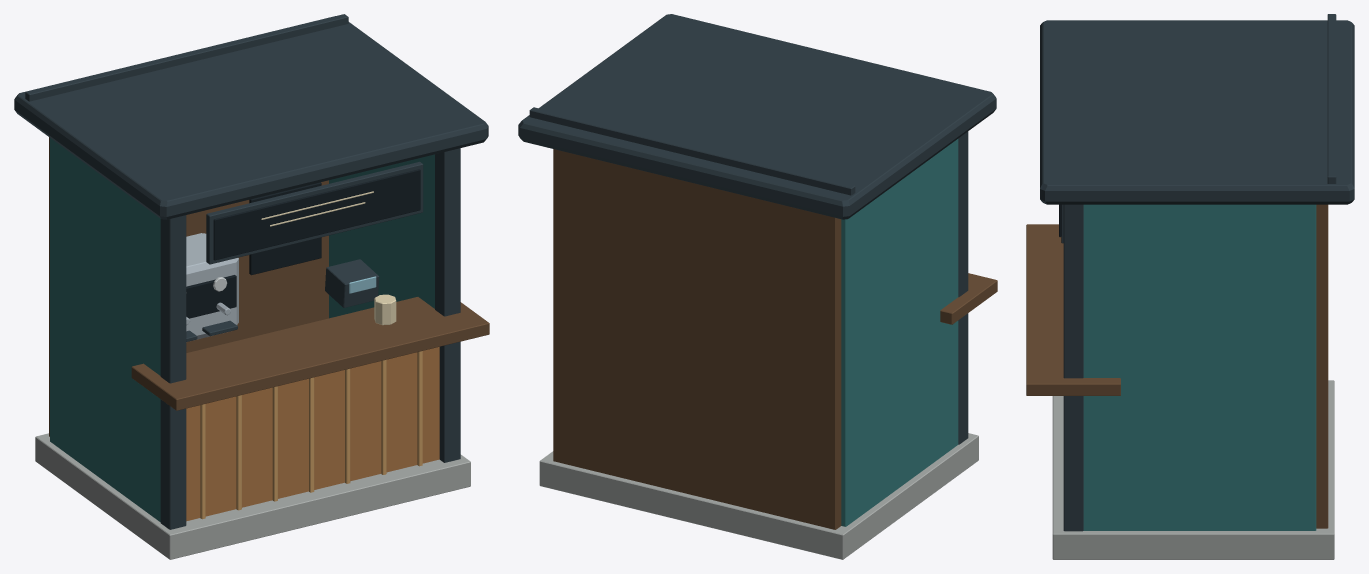
File: b10_sidewalk_coffee_kiosk.glb
3 renders of one model, left to right at view 1: azimuth 30°, elevation 25°; view 2: azimuth 150°, elevation 25°; view 3: azimuth 270°, elevation 25°, orthographic. The views are drawn at different scales.
Visible parts, largest first — view 1: b10_sidewalk_coffee_kiosk; view 2: b10_sidewalk_coffee_kiosk; view 3: b10_sidewalk_coffee_kiosk.
Boxes of the visible parts, x1,y1,x2,y2 form: b10_sidewalk_coffee_kiosk: [14, 14, 489, 559]; b10_sidewalk_coffee_kiosk: [518, 14, 997, 559]; b10_sidewalk_coffee_kiosk: [1026, 14, 1354, 559].
Size of the model in its own units: 2.18 by 2.36 by 1.8.
